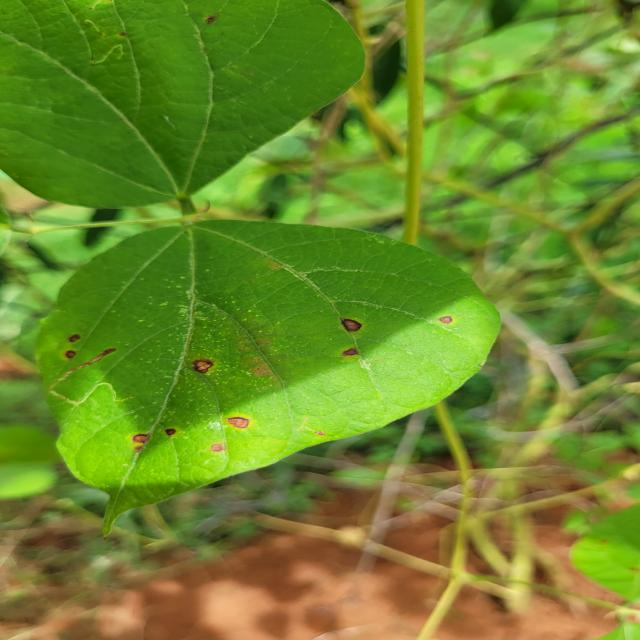Dolicos bean_cercospora leaf spot: (19, 224, 502, 524)
Dolicos bean_healthy: (0, 0, 373, 211)
